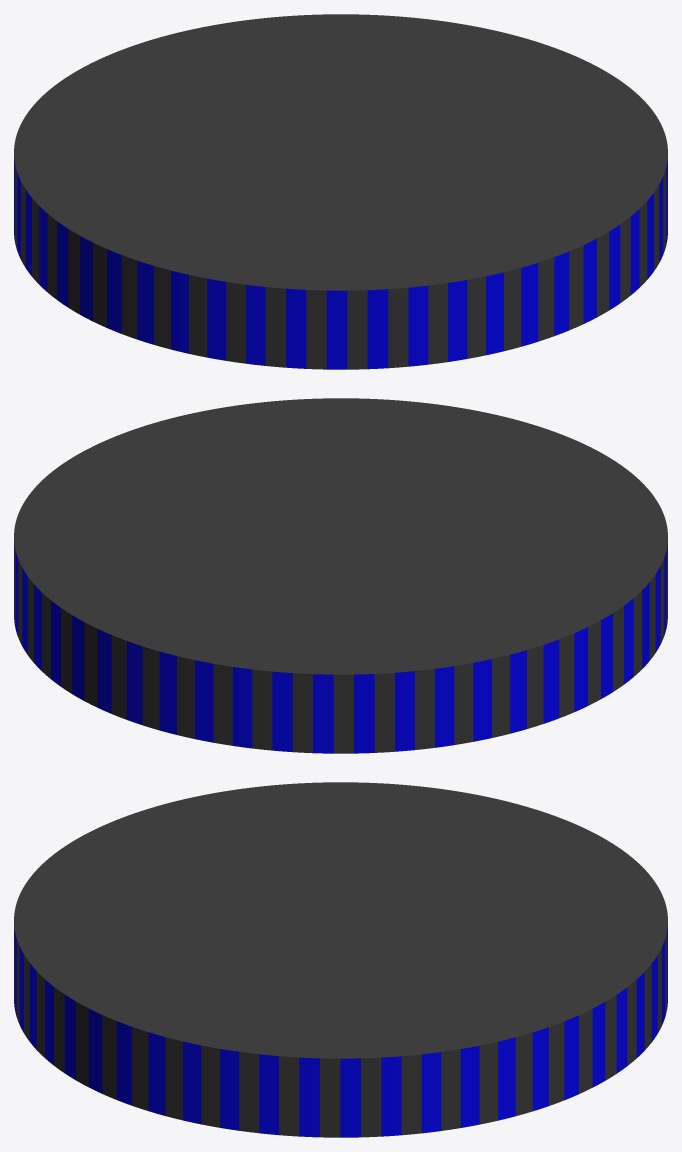
File: twowheel_right_hd.dae
3 renders of one model, top to bottom at view 1: azimuth 30°, elevation 25°; view 2: azimuth 150°, elevation 25°; view 3: azimuth 270°, elevation 25°, orthographic.
Parts seen in each view (by area): view 1: SketchUp (×21); view 2: SketchUp (×21); view 3: SketchUp (×22).
Boxes of the visible parts, bbox=[...] form: SketchUp (×21): bbox=[14, 14, 667, 369]; SketchUp (×21): bbox=[14, 398, 667, 753]; SketchUp (×22): bbox=[14, 782, 667, 1137].
Bounding box in the file's own units: 1.18 × 1.18 × 0.1575.
